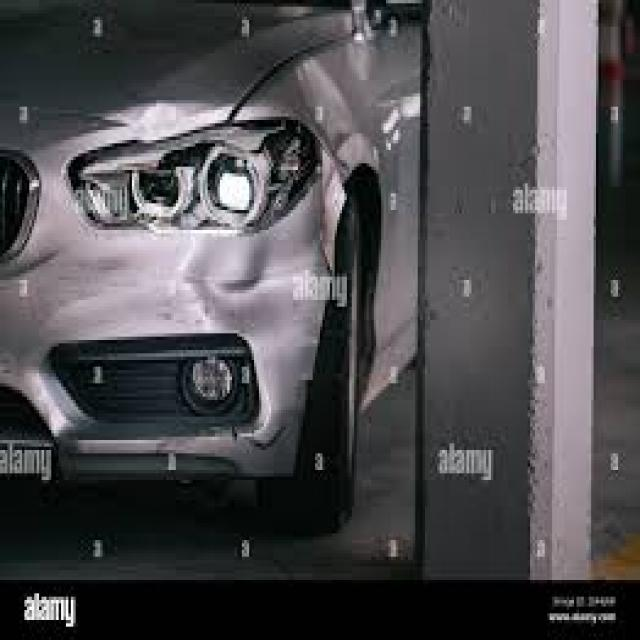damaged-head-light: (64, 122, 319, 230)
